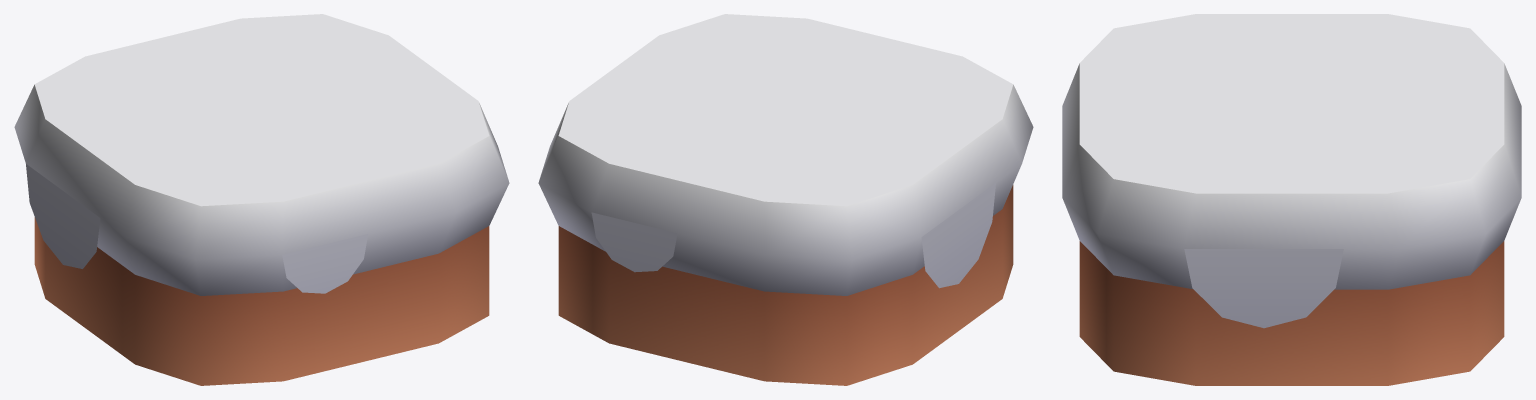
File: block-snow-overhang-low.glb
3 views of the same model, side by side, from view 1: azimuth 30°, elevation 25°; view 2: azimuth 150°, elevation 25°; view 3: azimuth 270°, elevation 25° (orthographic). The views are drawn at different scales.
Visible parts, largest first — view 1: block-snow-overhang-low; view 2: block-snow-overhang-low; view 3: block-snow-overhang-low.
Boxes of the visible parts, x1,y1,x2,y2 form: block-snow-overhang-low: (14, 14, 509, 385); block-snow-overhang-low: (538, 14, 1033, 385); block-snow-overhang-low: (1062, 14, 1521, 385).
Bounding box in the file's own units: 1.08 × 0.5 × 1.08.
1 material, 1 textured.
